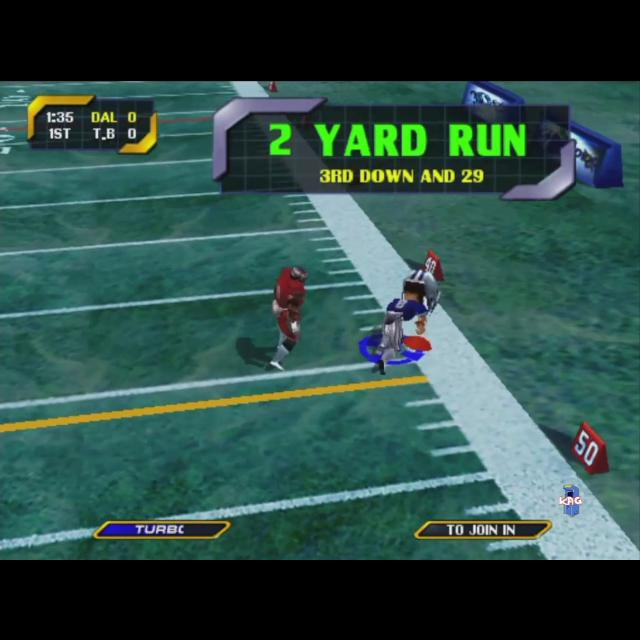player: (376, 268, 439, 376), (270, 265, 306, 369)
